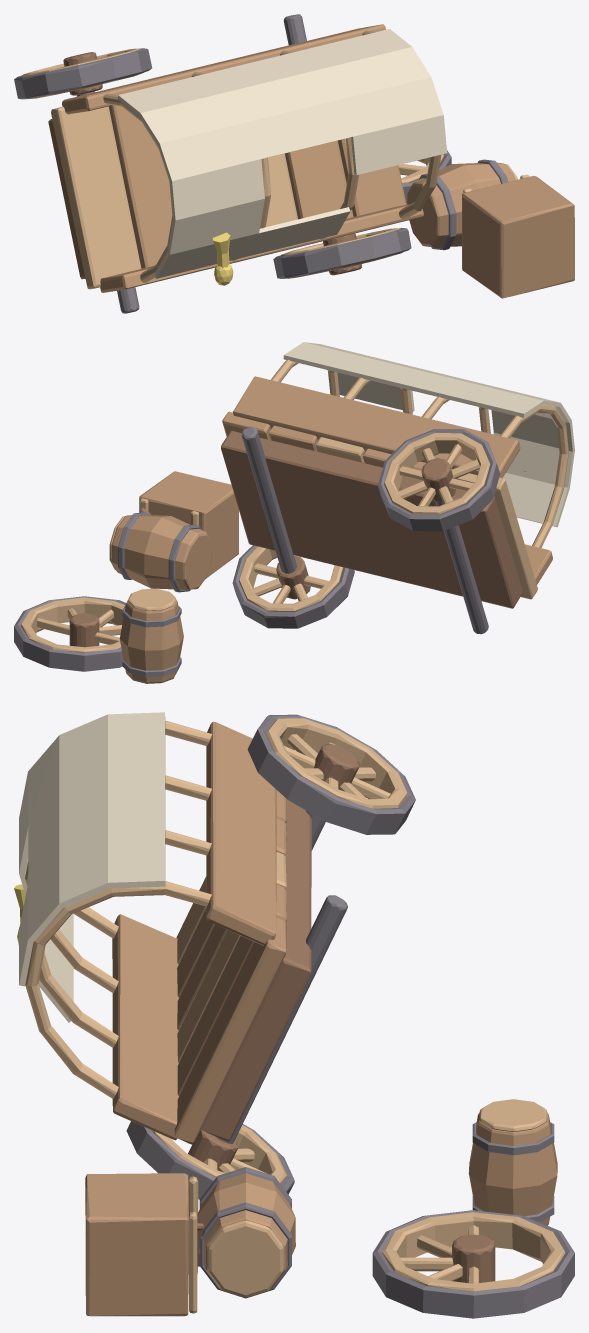
Rendered from Kit_LM_WagonWreck.fbx.
The picture shows the model from 3 angles, top to bottom: view 1: azimuth 30°, elevation 25°; view 2: azimuth 150°, elevation 25°; view 3: azimuth 270°, elevation 25°; orthographic projection. The views are drawn at different scales.
Parts seen in each view (by area): view 1: Kit_LM_WagonWreck; view 2: Kit_LM_WagonWreck; view 3: Kit_LM_WagonWreck.
Part boxes in pixels (x1=…): Kit_LM_WagonWreck: x1=14, y1=14, x2=574, y2=313; Kit_LM_WagonWreck: x1=14, y1=342, x2=574, y2=683; Kit_LM_WagonWreck: x1=14, y1=712, x2=574, y2=1318.
Size of the model in its own units: 4.03 by 2.2 by 3.25.
